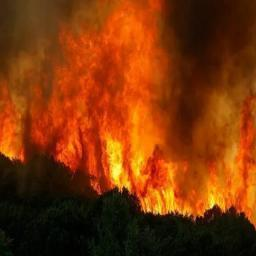Large fire: (1, 3, 255, 236)
